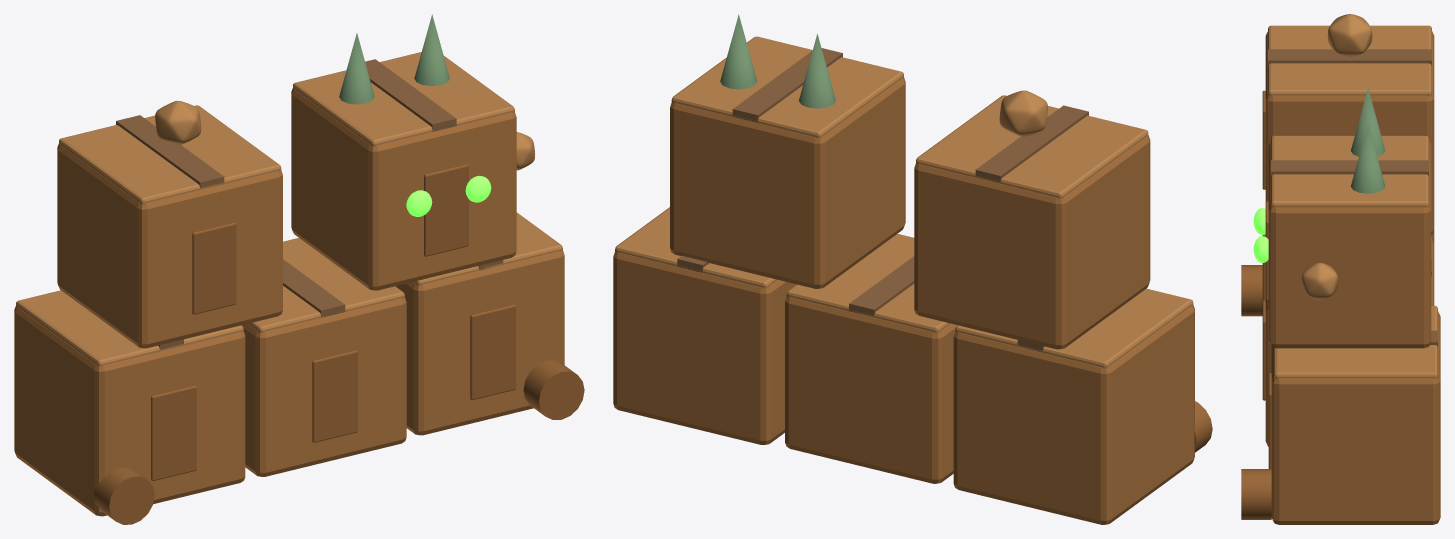
The model's file is zc_cardboard_barricade.mobile-mid.glb.
The picture shows the model from 3 angles, left to right: view 1: azimuth 30°, elevation 25°; view 2: azimuth 150°, elevation 25°; view 3: azimuth 270°, elevation 25°; orthographic projection. The views are drawn at different scales.
Visible parts, largest first — view 1: zc_cardboard_barricade; view 2: zc_cardboard_barricade; view 3: zc_cardboard_barricade.
Boxes of the visible parts, x1,y1,x2,y2 form: zc_cardboard_barricade: (14, 14, 584, 524); zc_cardboard_barricade: (613, 14, 1212, 524); zc_cardboard_barricade: (1241, 14, 1440, 524).
Bounding box in the file's own units: 1.77 × 1.33 × 0.66.
Materials: 1 (1 with a texture image).
